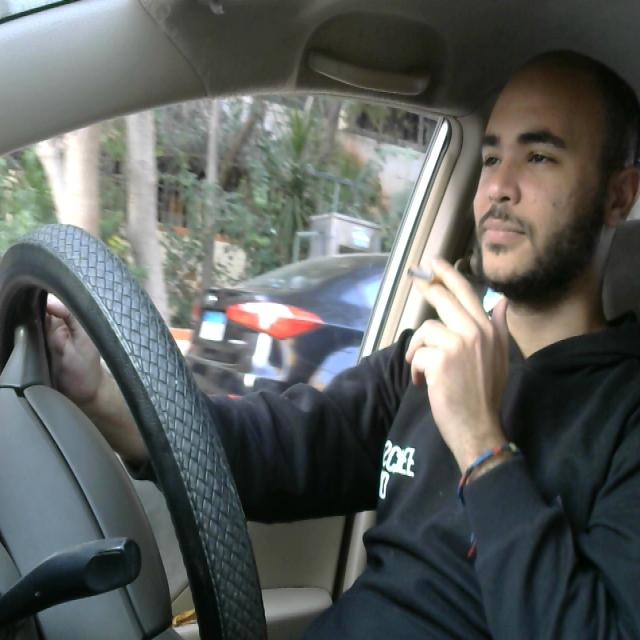smoking: (402, 259, 451, 297)
